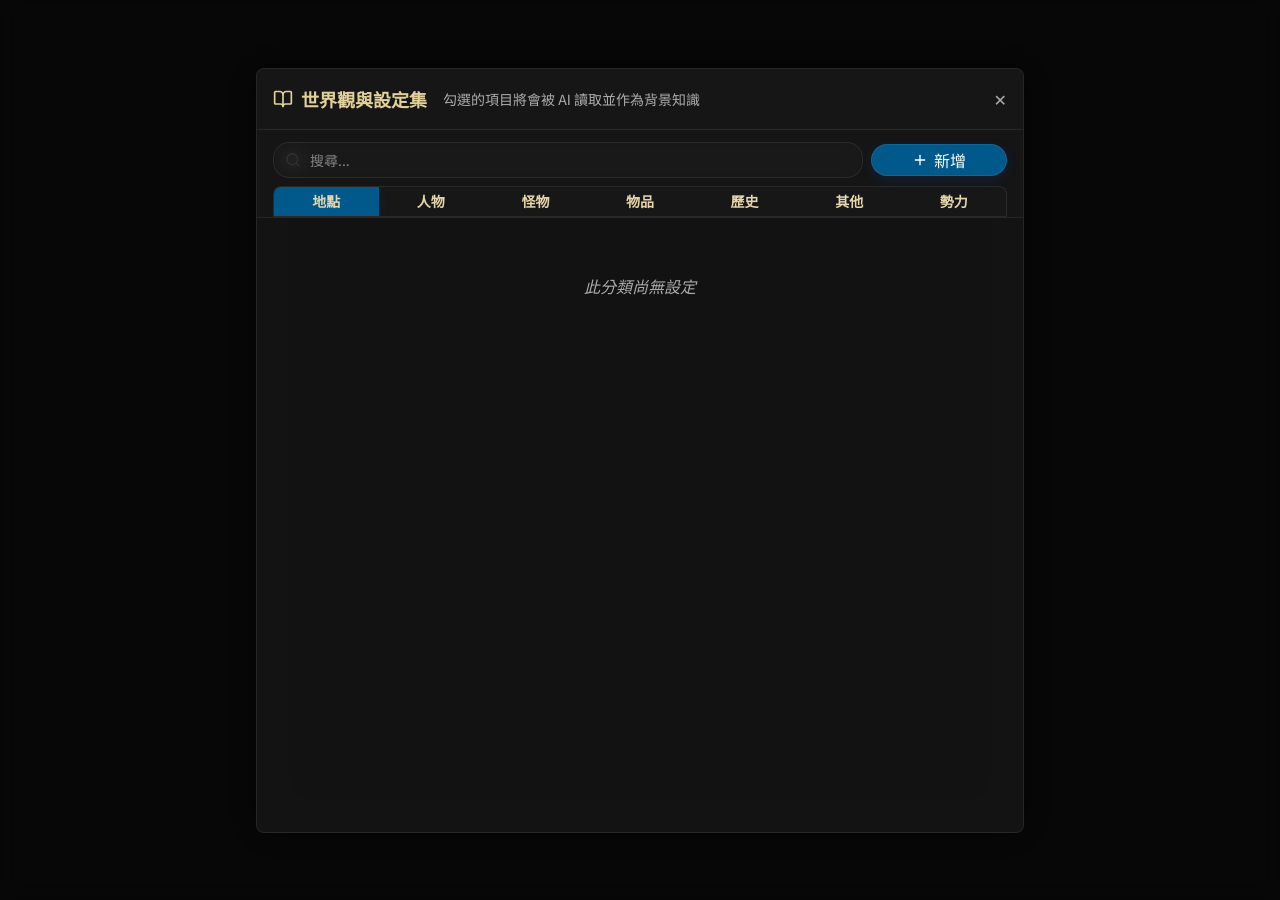
Test case: LorebookModal 勢力敵友關係 › 選附庸時顯示單向說明
Click the button "勢力": (954, 201) [902,186,1006,216]
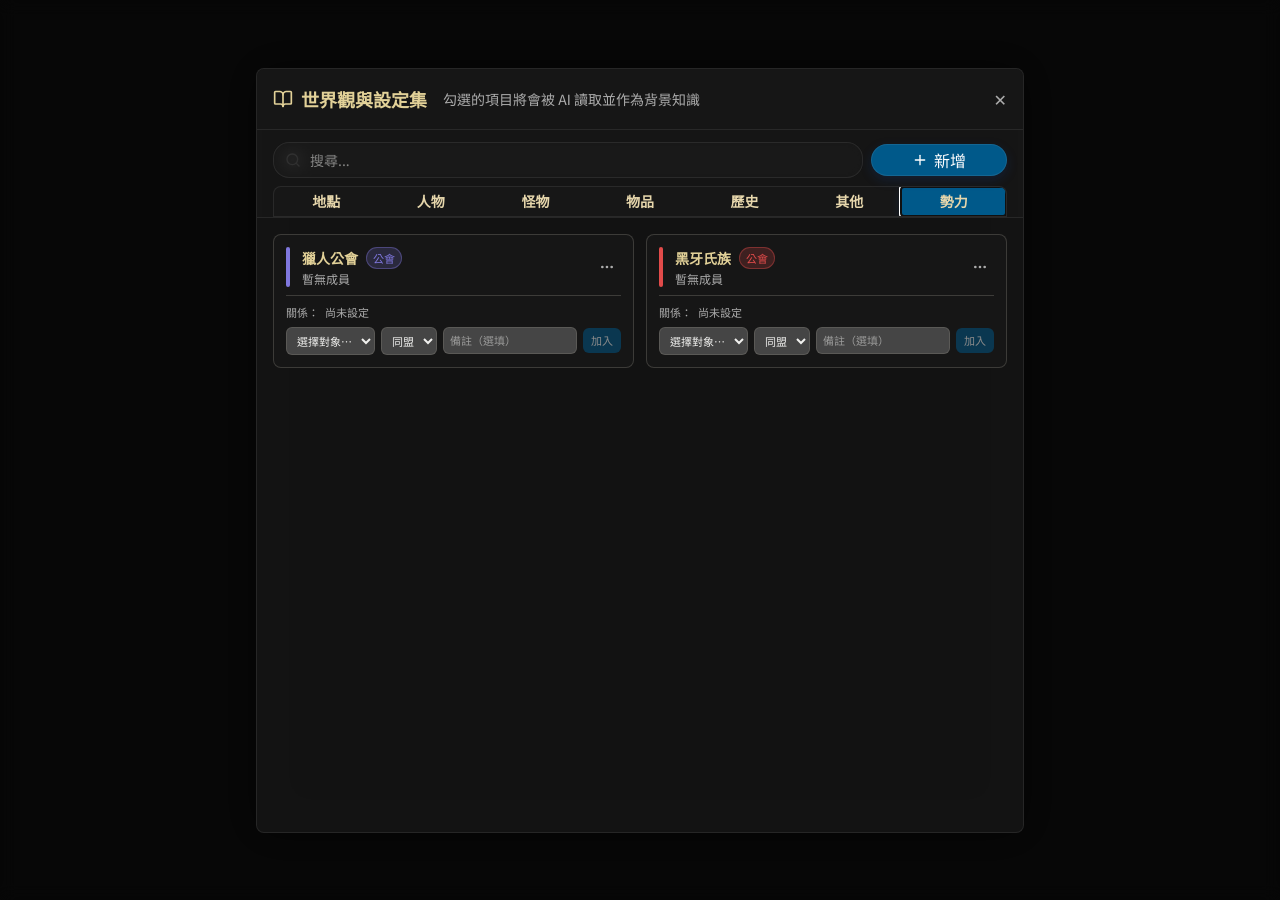
Select "附庸" in the dropdown named "關係類型" below "獵人公會": (409, 340) [381,326,437,354]
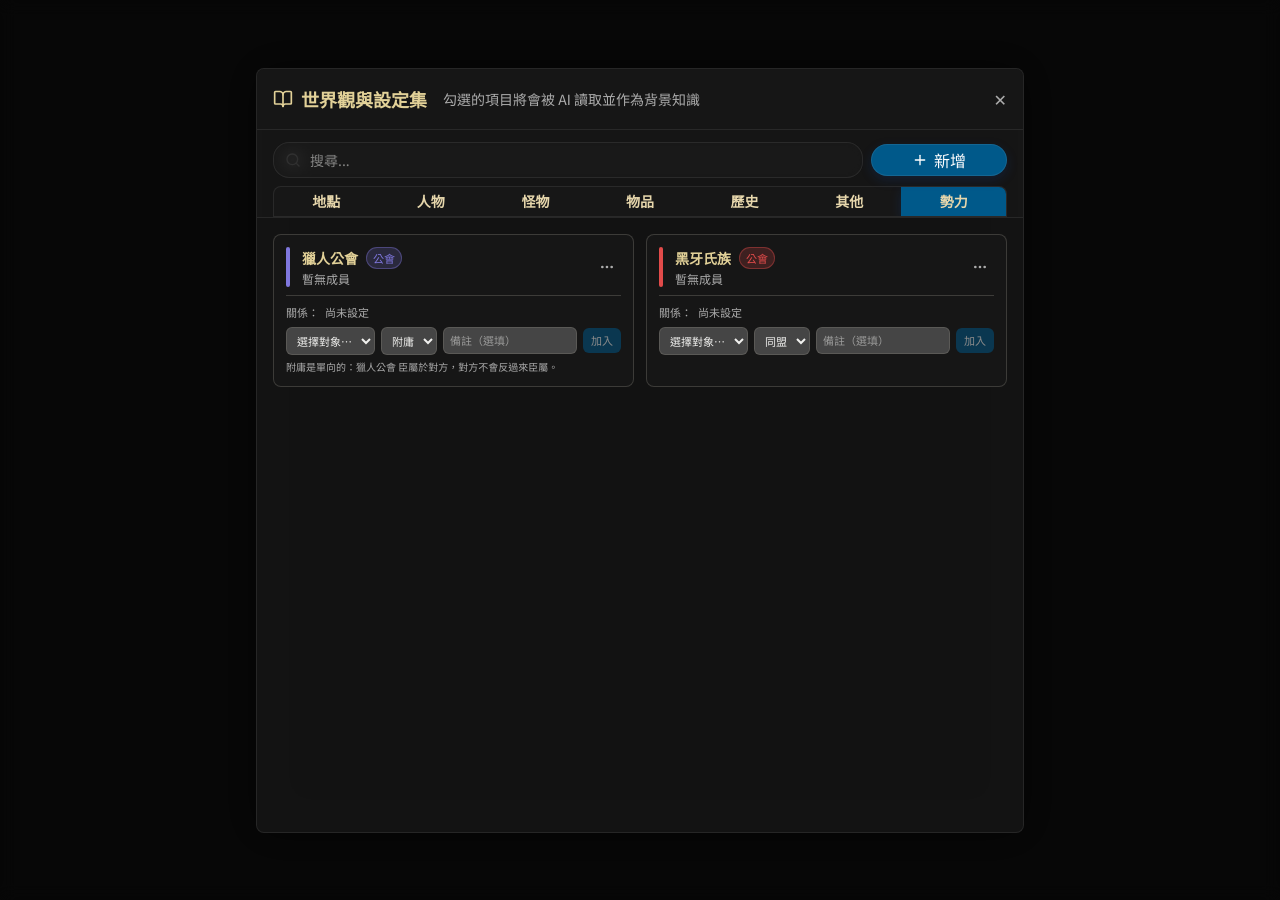
Check: the text "附庸是單向的：獵人公會 臣屬於對方，對方不會反過來臣屬。" is shown, box [286,358,558,374]
